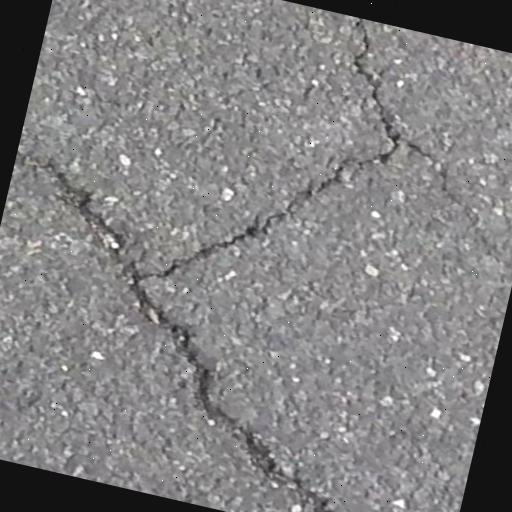spalling: (41, 148, 340, 512), (161, 16, 412, 281)
